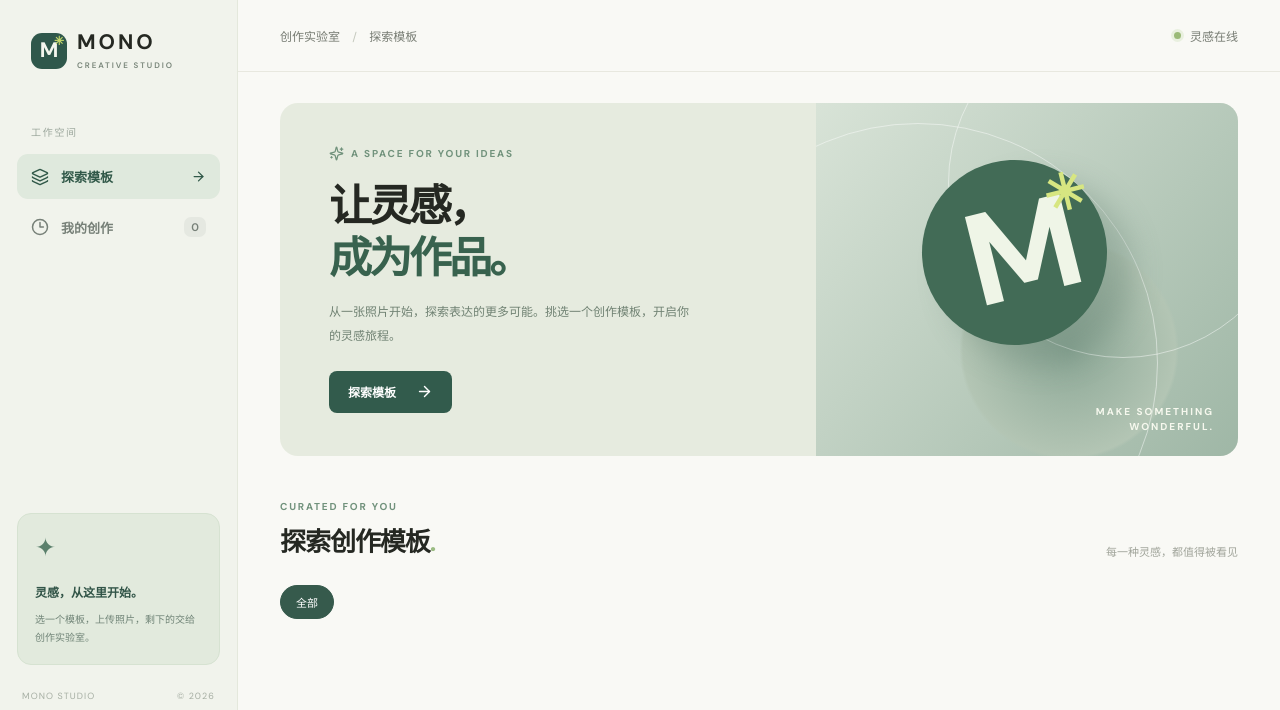
Test case: 个人任务界面 › 同时保留两个任务各自的状态与错误
Click the button "我的创作 0" at (118, 227), box [17,204,220,250]
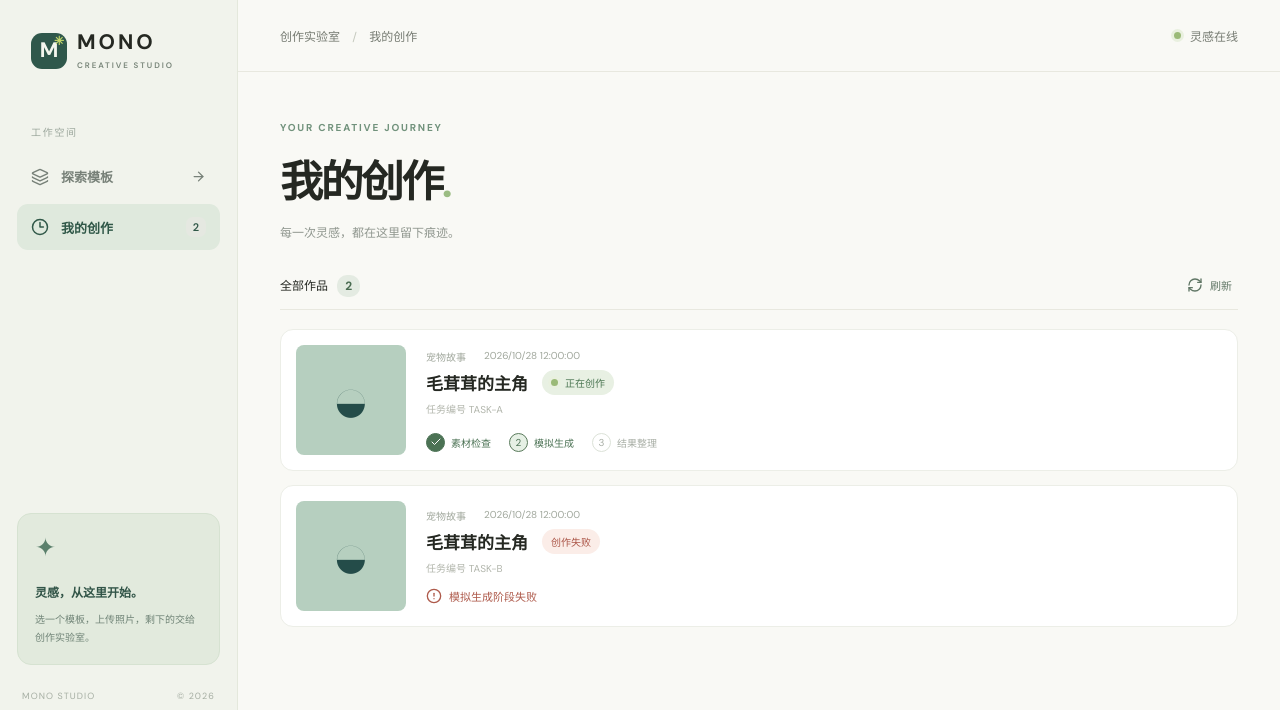
Expected: the text "正在创作" is shown, [542,370,614,394]
Expected: the text "创作失败" is shown, [542,529,600,554]
Expected: the text "模拟生成阶段失败" is shown, [426,588,537,604]
